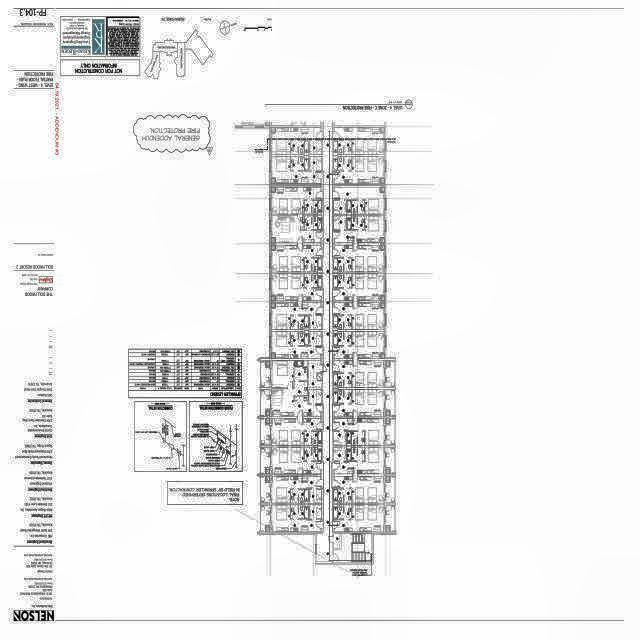room: (332, 476, 386, 503), (332, 360, 384, 388), (332, 389, 385, 416), (332, 447, 385, 474), (333, 245, 385, 272), (333, 303, 385, 330), (332, 331, 384, 358), (334, 128, 385, 155), (334, 187, 385, 214), (333, 274, 384, 301), (333, 418, 384, 445), (333, 505, 384, 532), (271, 505, 322, 532), (271, 447, 322, 474), (271, 360, 322, 387), (271, 331, 322, 358), (271, 303, 322, 330), (271, 274, 322, 301), (271, 245, 322, 272), (271, 216, 322, 243), (271, 187, 322, 214), (271, 156, 322, 183), (334, 216, 384, 243), (271, 476, 321, 503), (271, 418, 321, 445), (272, 389, 322, 416), (335, 157, 384, 183), (271, 140, 322, 155), (261, 418, 270, 445), (261, 476, 270, 503), (386, 476, 395, 503), (386, 418, 395, 445), (261, 361, 270, 387), (261, 390, 270, 416), (261, 448, 270, 474), (261, 505, 270, 531), (386, 390, 395, 416), (386, 361, 395, 387), (386, 506, 395, 531), (386, 448, 395, 473)
